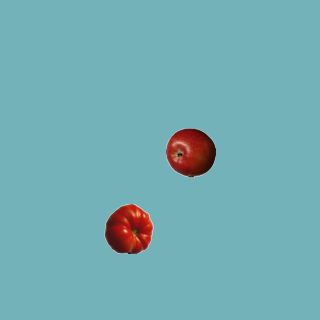Apple Braeburn: (165, 127, 215, 177)
Tomato 3: (103, 203, 153, 253)
